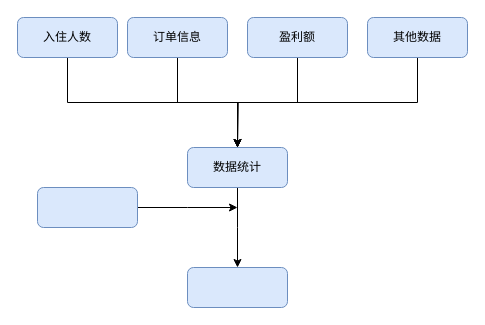
This 485x325 diagram has some shape labels left out. Each missing label, with the centre of its shape:
"导出数据报表" belongs at (237,287).
"管理员查看数据" belongs at (87,207).
